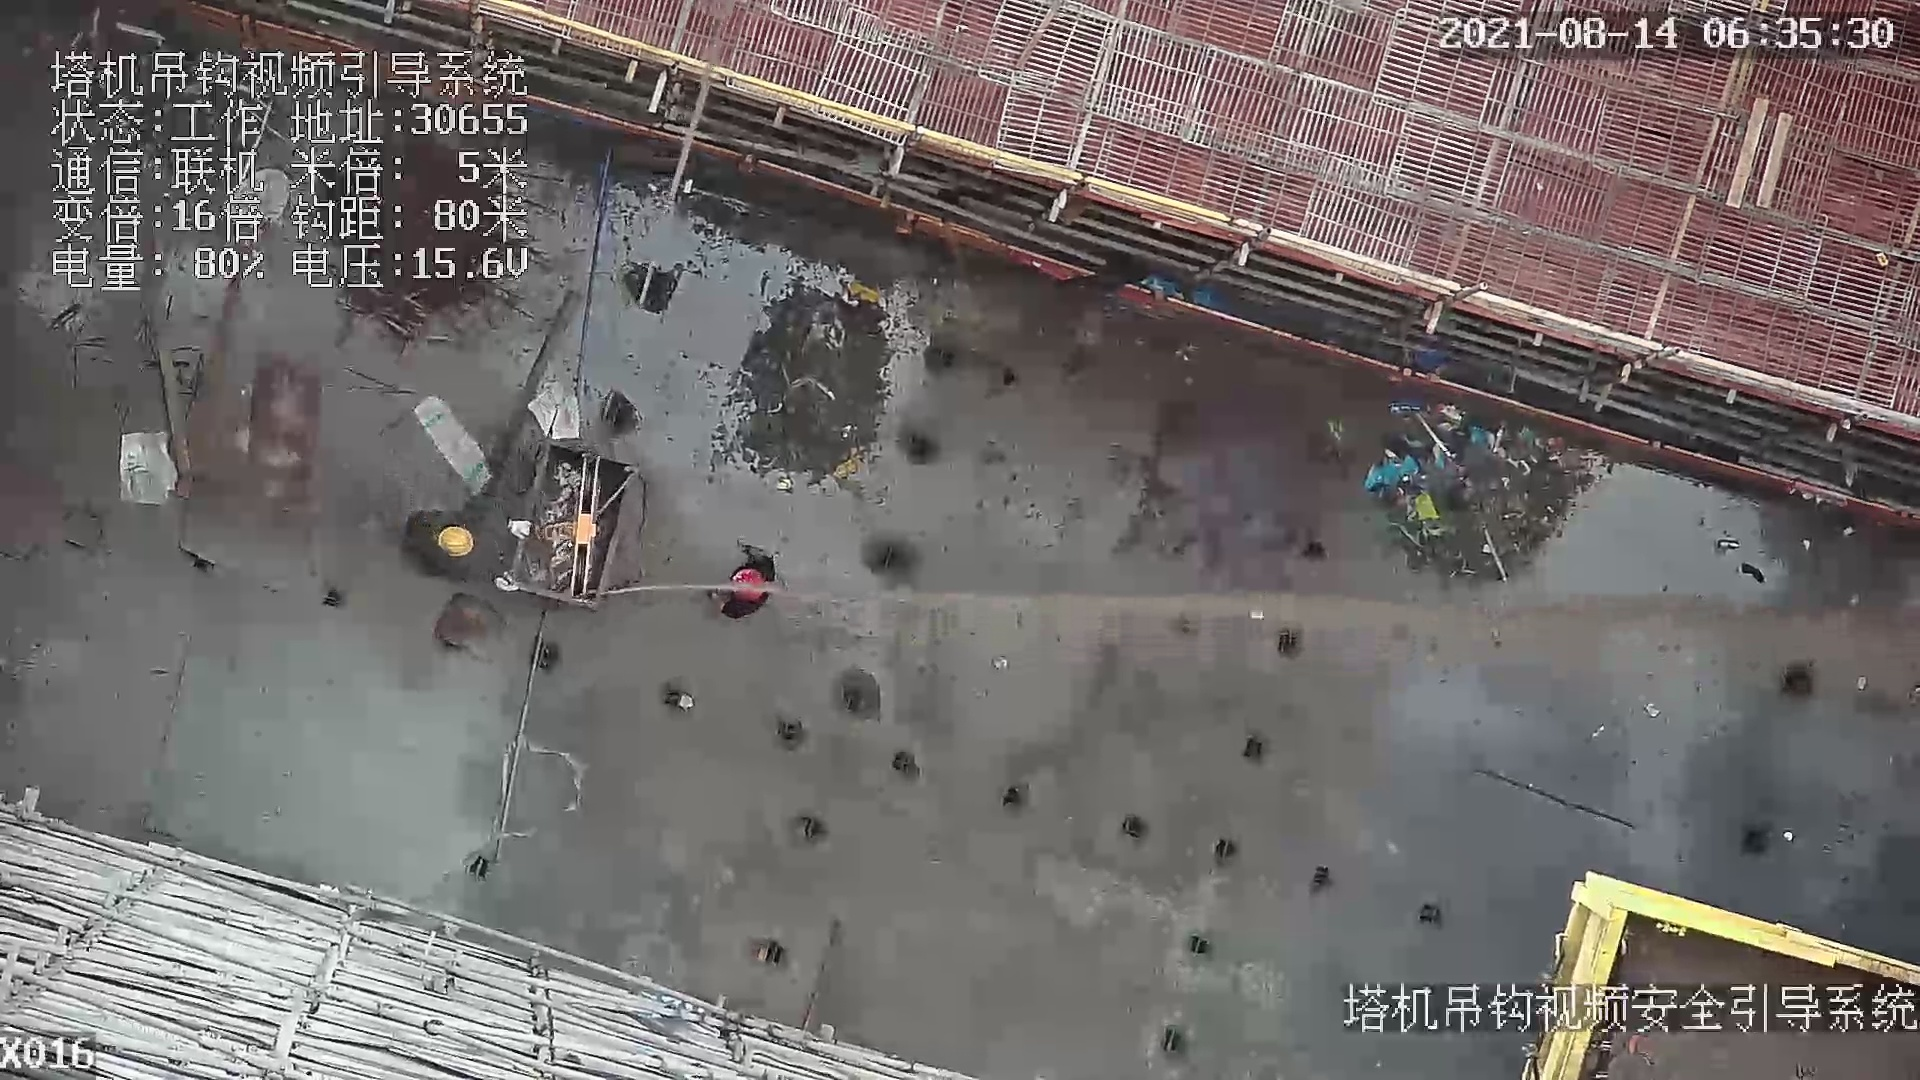helmet: (438, 523, 478, 558), (731, 571, 764, 605)
hook: (549, 455, 595, 605)
hopper: (505, 437, 656, 635)
person: (394, 497, 486, 583), (705, 544, 783, 623)
